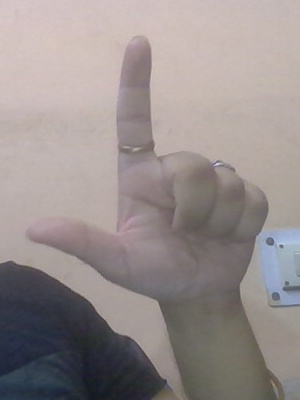L: (16, 33, 263, 308)
